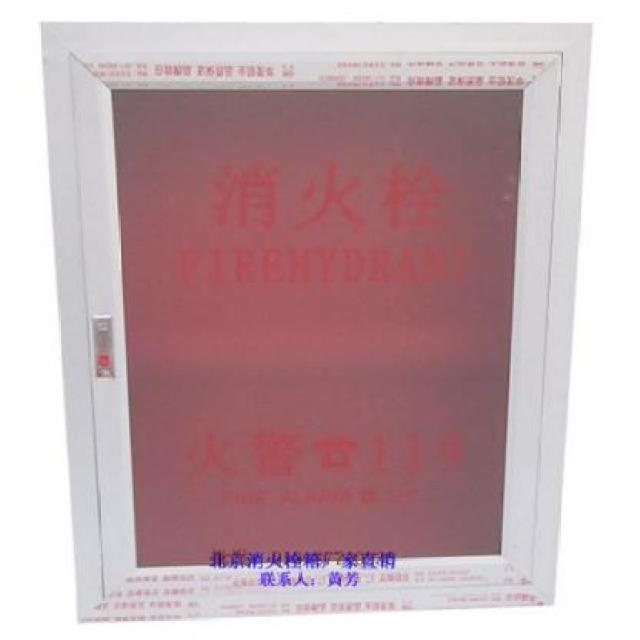firehydrant: (34, 11, 596, 631)
